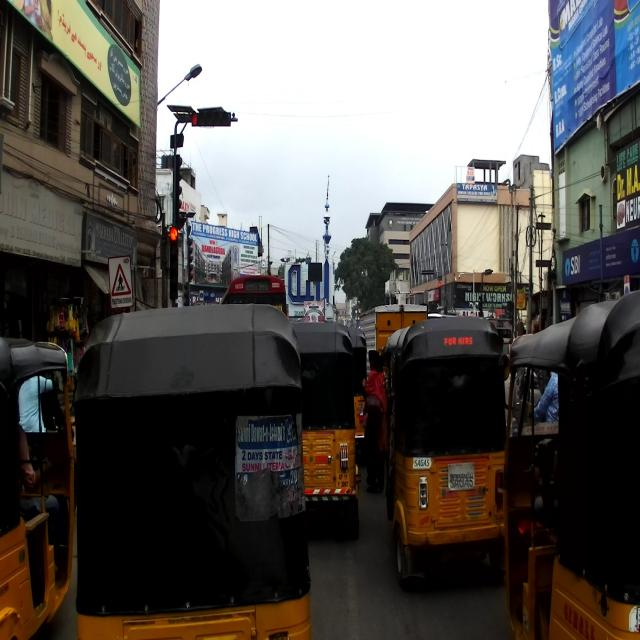autorickshaw: (74, 306, 312, 639), (498, 290, 640, 640), (376, 318, 511, 588), (0, 334, 77, 637), (289, 320, 362, 542)
